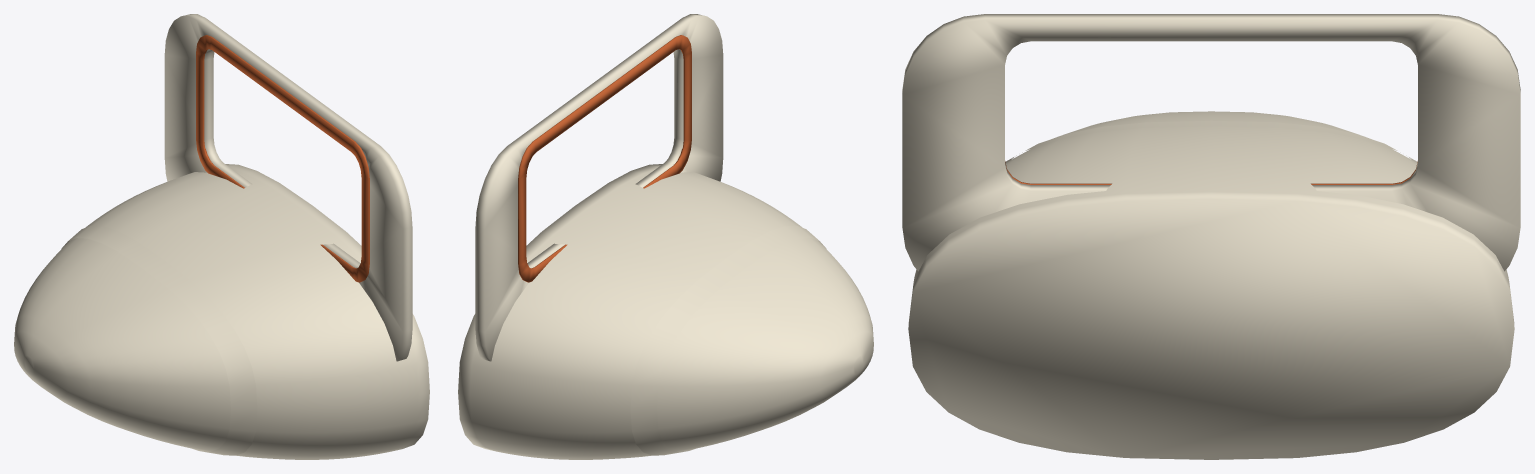
Rendered from kestrel_nose.glb.
3 views of the same model, side by side, from view 1: azimuth 30°, elevation 25°; view 2: azimuth 150°, elevation 25°; view 3: azimuth 270°, elevation 25° (orthographic). The views are drawn at different scales.
Visible parts, largest first — view 1: nose, cowl, nose_oxide_band, oxide_cowl; view 2: nose, cowl, nose_oxide_band, oxide_cowl; view 3: nose, cowl, nose_oxide_band.
Boxes of the visible parts, box(x1,y1,x2,y2) form: nose: box(14, 164, 429, 459); cowl: box(164, 14, 412, 361); nose_oxide_band: box(61, 225, 257, 455); oxide_cowl: box(196, 35, 369, 282); nose: box(458, 164, 873, 459); cowl: box(475, 14, 723, 361); nose_oxide_band: box(630, 225, 826, 455); oxide_cowl: box(518, 35, 691, 282); nose: box(908, 111, 1514, 459); cowl: box(902, 14, 1520, 271); nose_oxide_band: box(1005, 120, 1417, 162).
Bounding box in the file's own units: 3.6 × 4 × 5.24.
